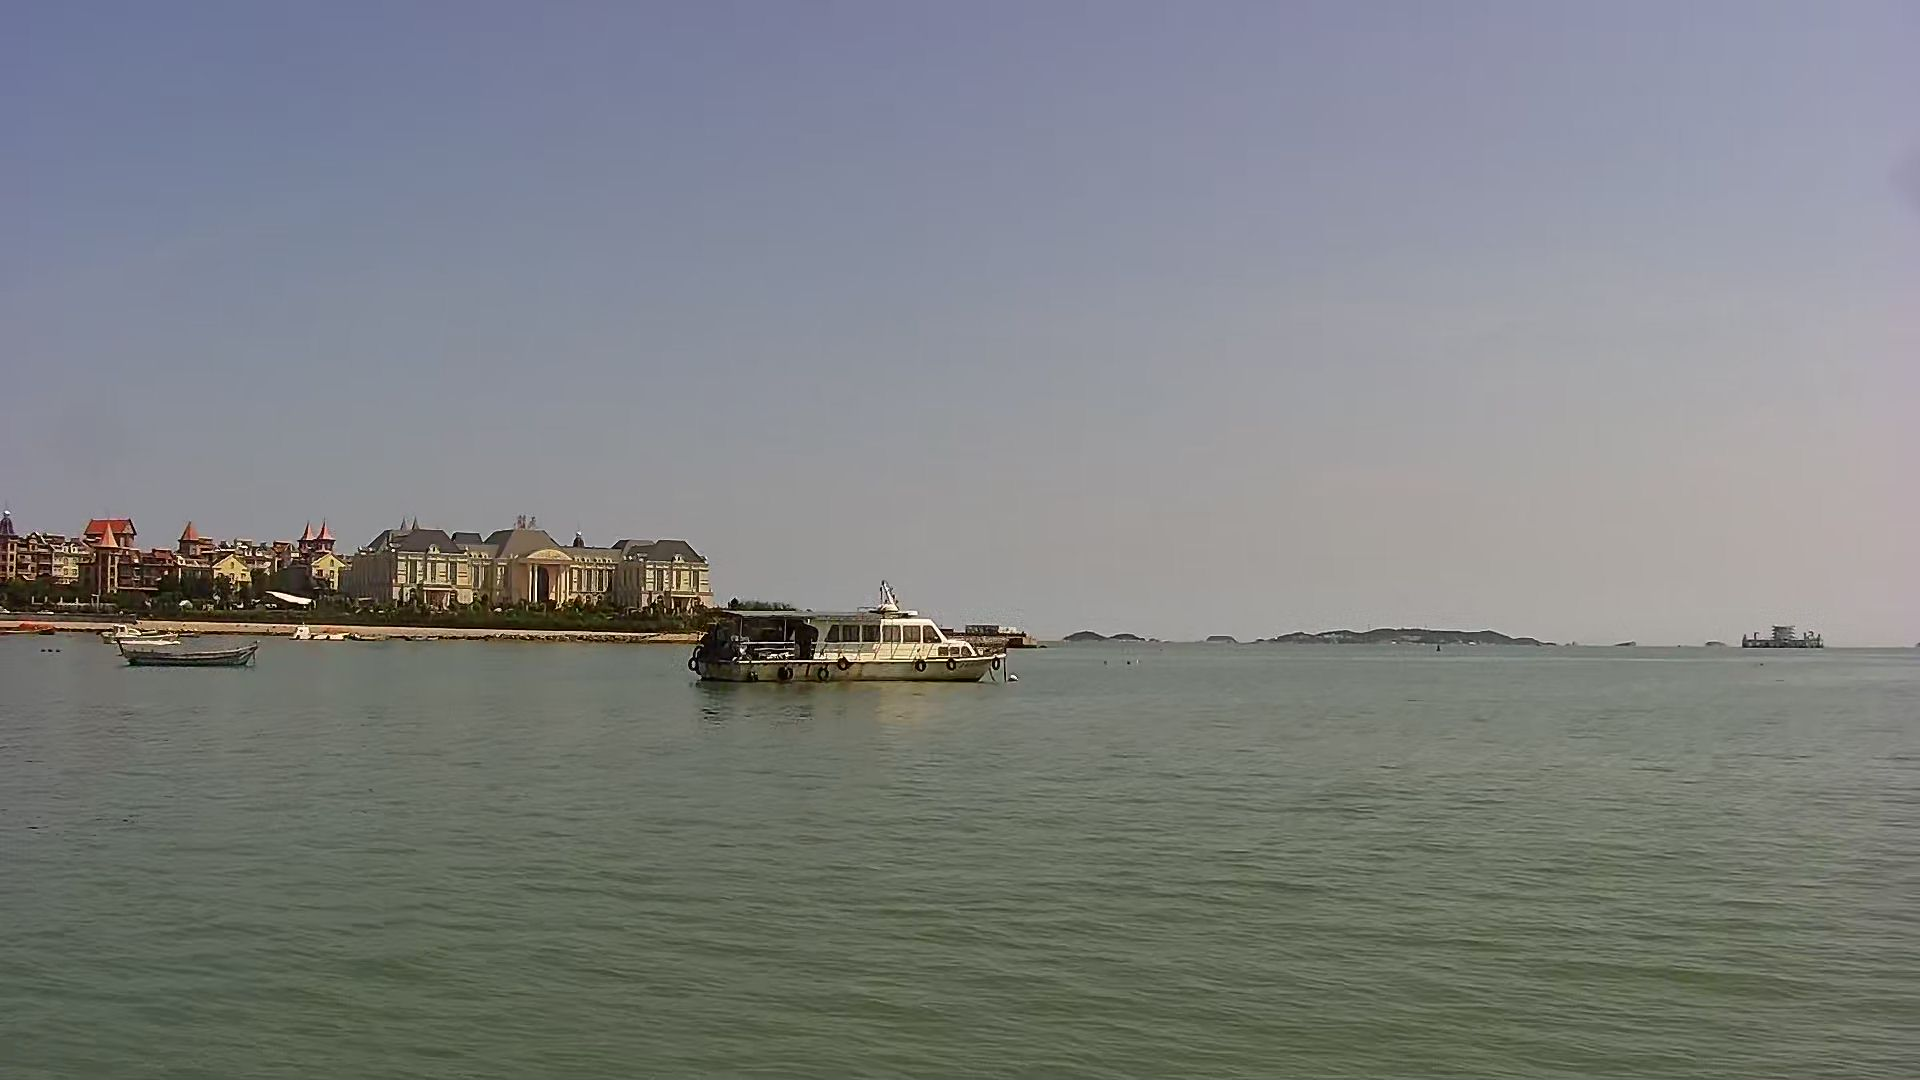boat: (113, 640, 258, 669), (88, 620, 185, 646)
platform: (1735, 622, 1825, 653)
ship: (686, 579, 1010, 688)
